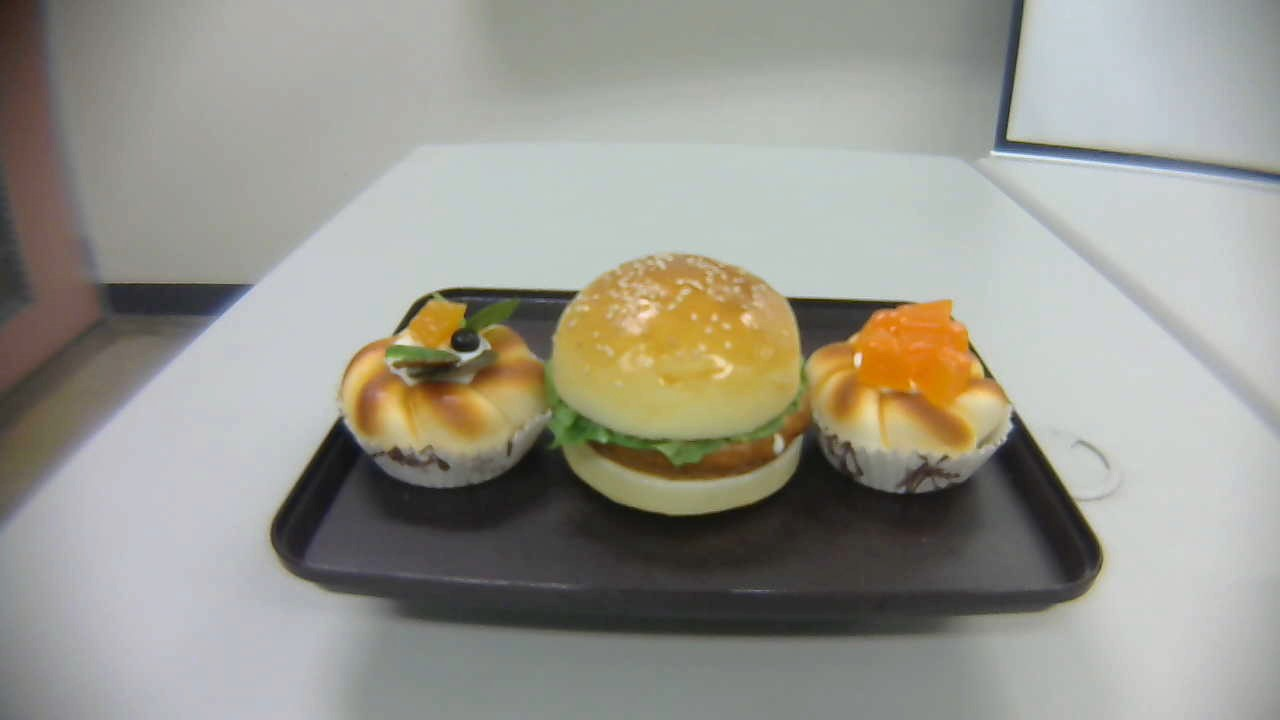fruit tart: (337, 291, 552, 488)
hamburger: (552, 252, 807, 517)
mango tart: (807, 300, 1014, 495)
